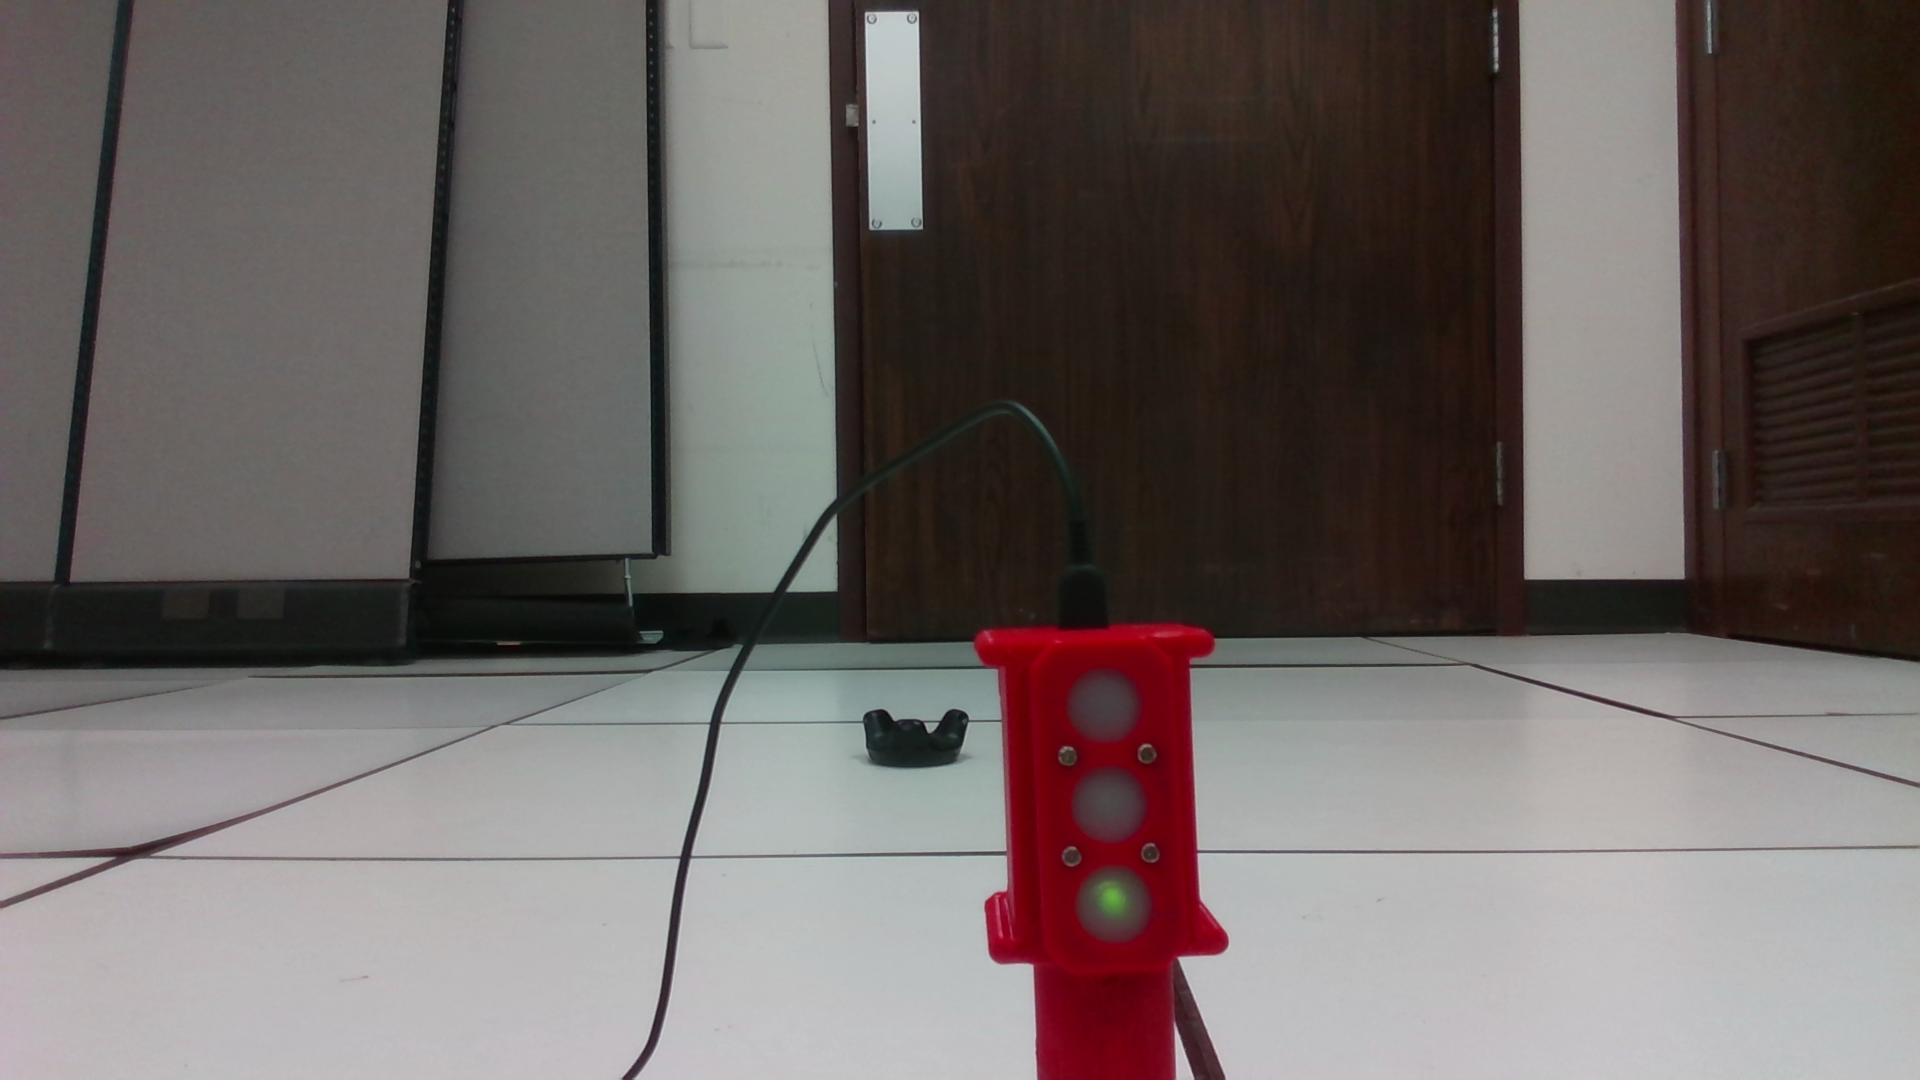stoplight: (967, 626, 1229, 1079)
